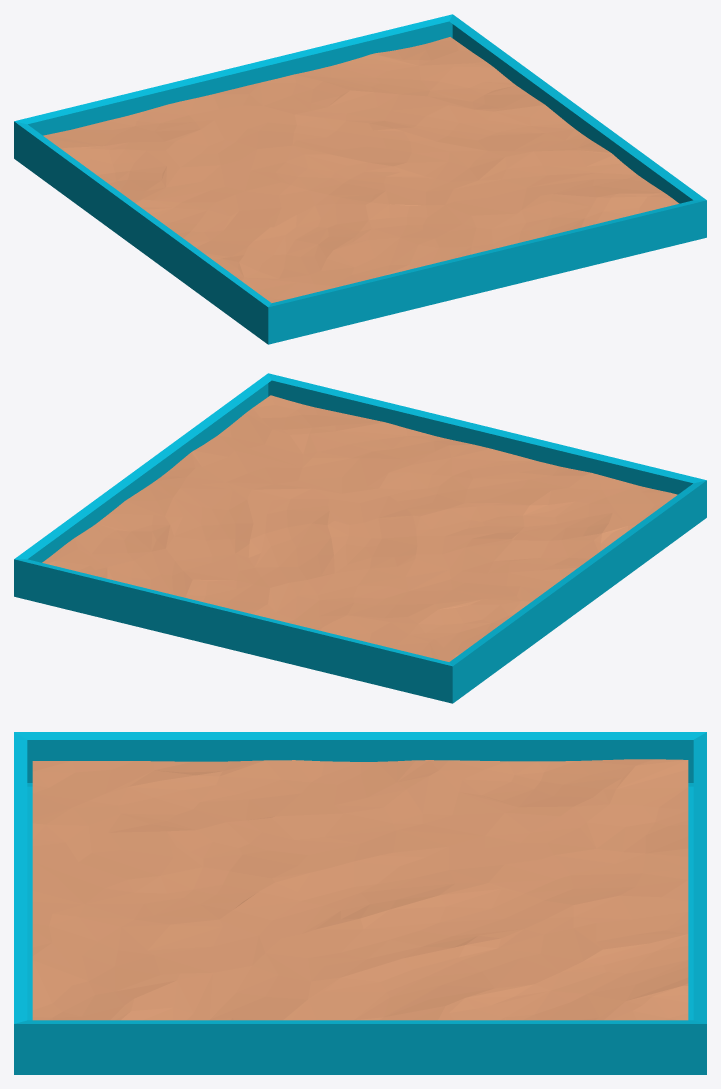
File: Sand_Box 1.fbx
The picture shows the model from 3 angles, top to bottom: view 1: azimuth 30°, elevation 25°; view 2: azimuth 150°, elevation 25°; view 3: azimuth 270°, elevation 25°; orthographic projection. The views are drawn at different scales.
Visible parts, largest first — view 1: Sand_Box; view 2: Sand_Box; view 3: Sand_Box.
Boxes of the visible parts, bbox=[...] form: Sand_Box: bbox=[14, 14, 706, 344]; Sand_Box: bbox=[14, 373, 706, 703]; Sand_Box: bbox=[14, 732, 706, 1074].
Bounding box in the file's own units: 9.16 × 0.7455 × 9.19.
